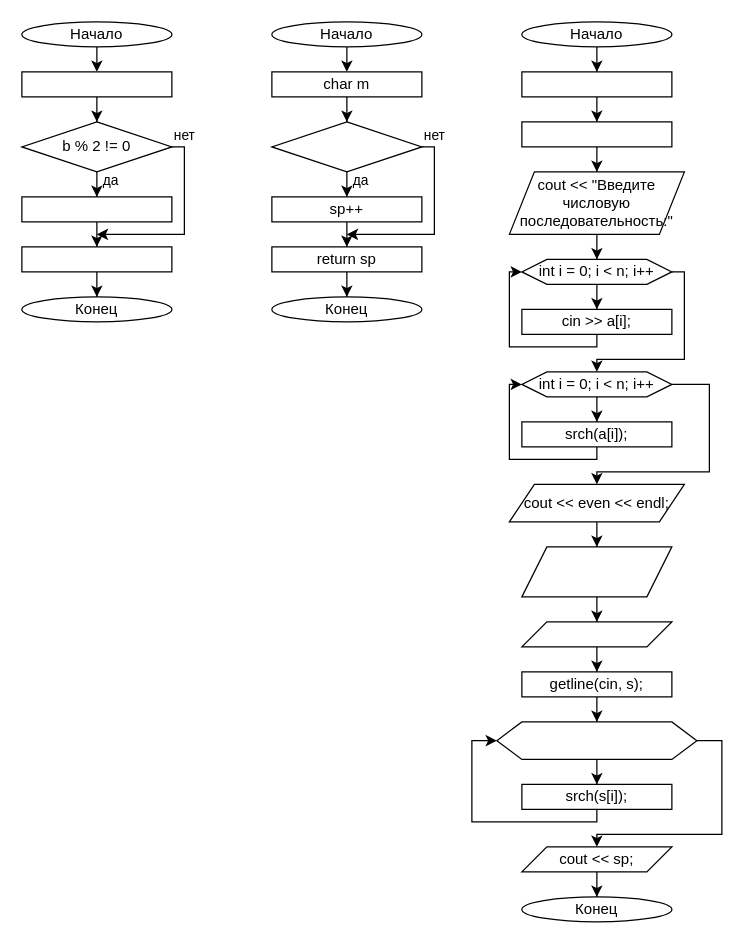
Image size: 754x944. Some labels were removed from this diagram. Here are the shapes that lost their labels. From the top down, the centre of each, then its label:
[96,84]: int b
[596,84]: int a[n];
[346,146]: m == ' '
[596,134]: string s;
[96,209]: even++
[96,259]: return even
[596,571]: cout << "Введите строку:"
[596,634]: cin >> s;
[596,740]: int i = 0; i < s.size() + 1; i++
